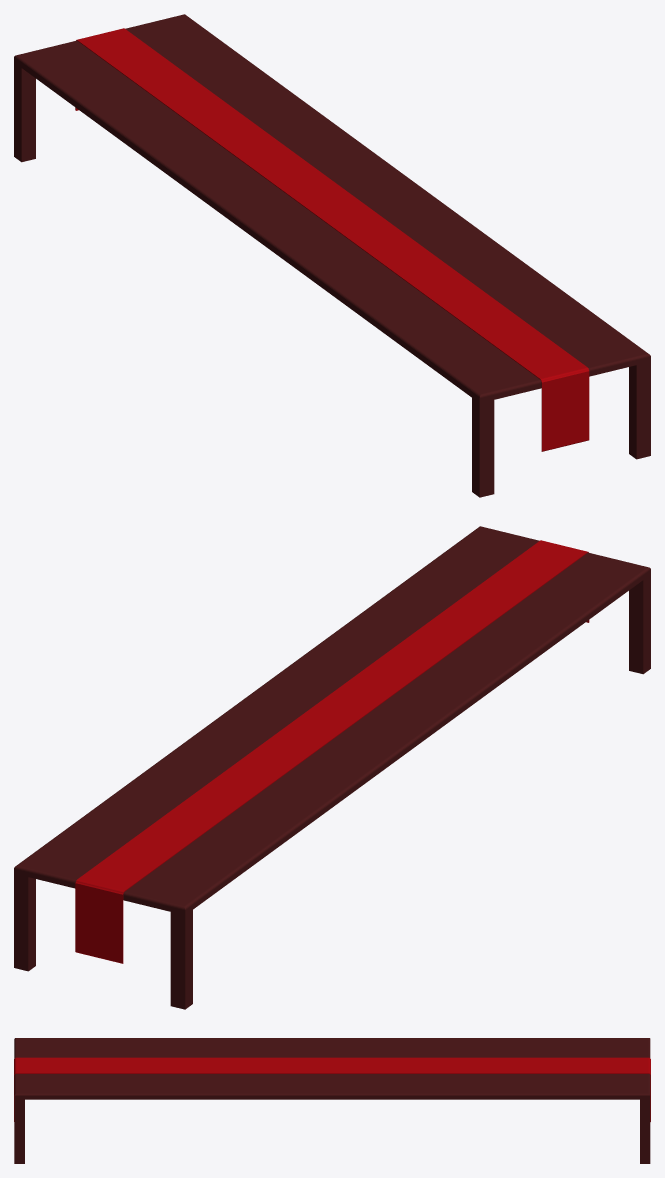
Rendered from Long table.fbx.
3 renders of one model, top to bottom at view 1: azimuth 30°, elevation 25°; view 2: azimuth 150°, elevation 25°; view 3: azimuth 270°, elevation 25°, orthographic. The views are drawn at different scales.
Parts seen in each view (by area): view 1: Cube; view 2: Cube; view 3: Cube.
Boxes of the visible parts, x1,y1,x2,y2 form: Cube: (14,14,650,497); Cube: (14,526,650,1009); Cube: (14,1038,650,1163).
Size of the model in its own units: 272 by 156 by 1285.
